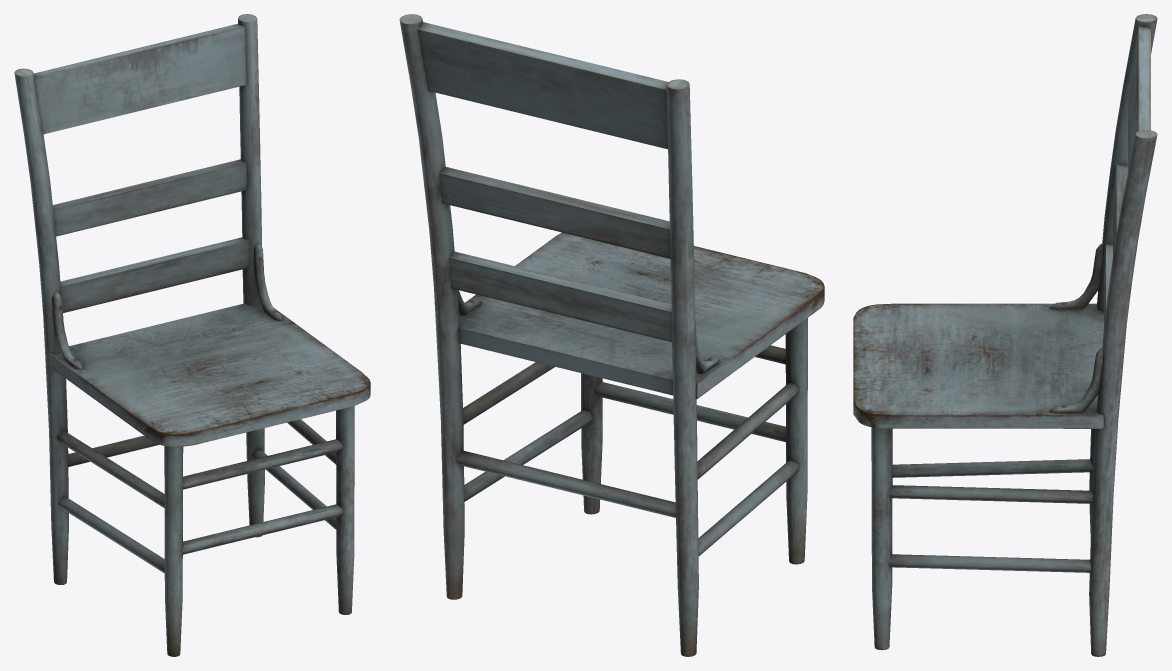
Rendered from painted_wooden_chair_02.glb.
3 renders of one model, left to right at view 1: azimuth 30°, elevation 25°; view 2: azimuth 150°, elevation 25°; view 3: azimuth 270°, elevation 25°, orthographic. The views are drawn at different scales.
Visible parts, largest first — view 1: painted_wooden_chair_02; view 2: painted_wooden_chair_02; view 3: painted_wooden_chair_02.
Part boxes in pixels (left/top/right/bottom): painted_wooden_chair_02: left=14, top=14, right=370, bottom=656; painted_wooden_chair_02: left=399, top=14, right=824, bottom=656; painted_wooden_chair_02: left=853, top=14, right=1157, bottom=656.
Bounding box in the file's own units: 0.6394 × 1.26 × 0.6605.
1 material, 1 textured.
